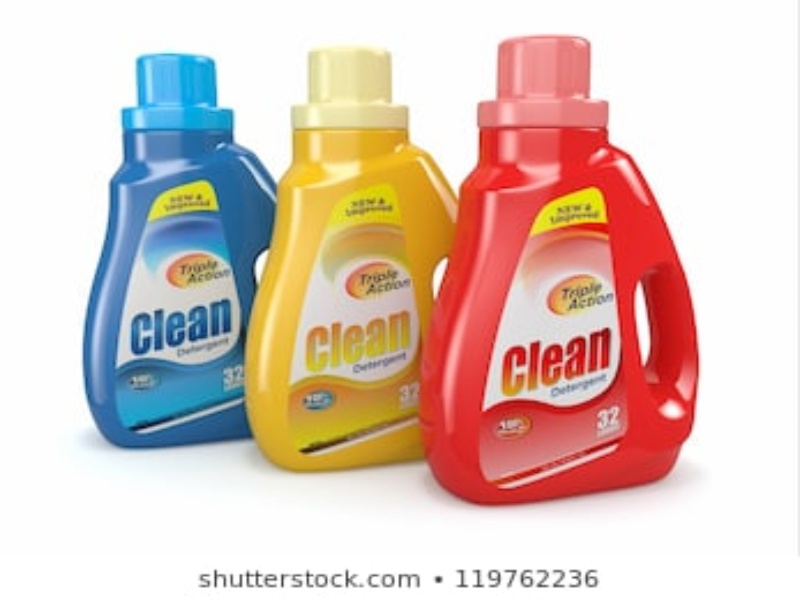detergent-bottle: (418, 34, 720, 508), (248, 45, 469, 474), (75, 50, 281, 448)
